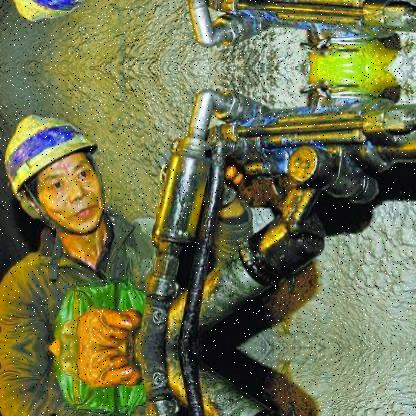Helmet: (0, 109, 118, 242)
